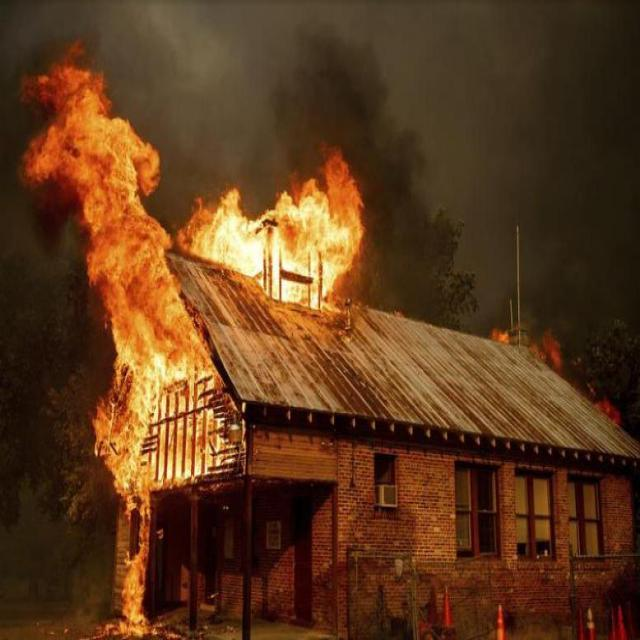Fire: (64, 121, 364, 428)
